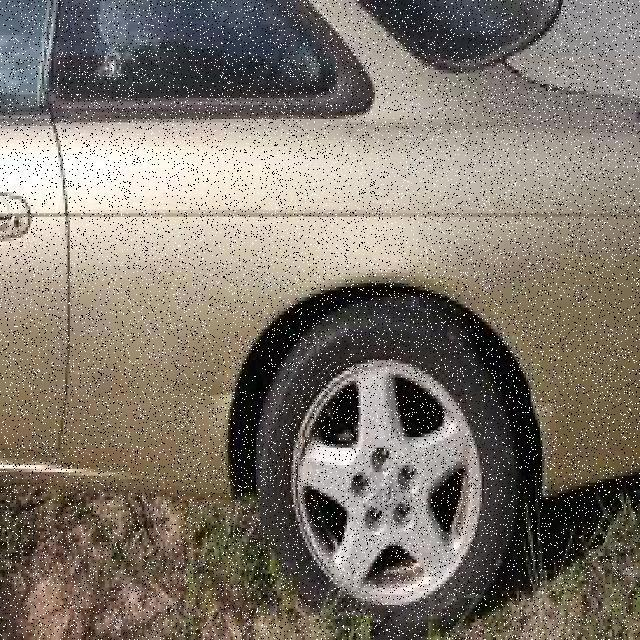quaterpanel-dent: (316, 216, 594, 504)
